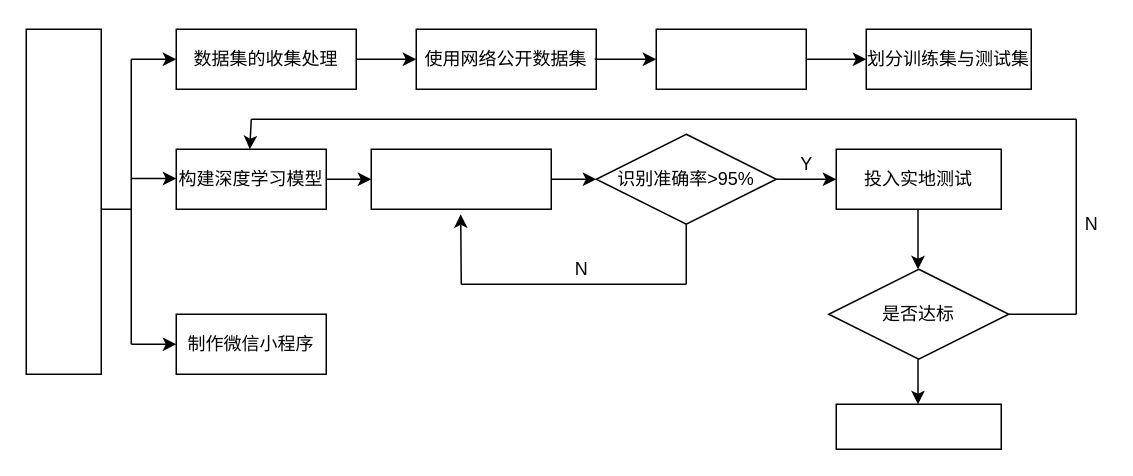
The diagram is 1133 pixels wide and 476 high, and some of its shapes have lost their labels. Each missing label, with the box of its shape:
人 群 口 罩 佩 戴 自 动 识 别 智 能 分 析: (25, 28, 101, 374)
投入使用: (835, 403, 1001, 449)
数据处理: (655, 28, 806, 89)
训练深度学习模型: (370, 148, 551, 209)
